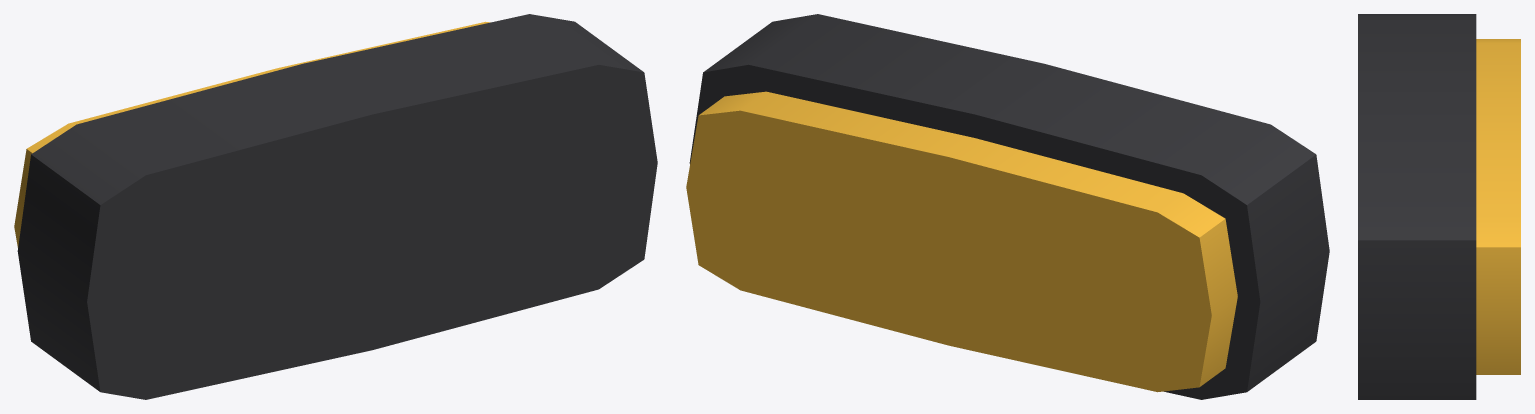
The model's file is flush.glb.
The picture shows the model from 3 angles, left to right: view 1: azimuth 30°, elevation 25°; view 2: azimuth 150°, elevation 25°; view 3: azimuth 270°, elevation 25°; orthographic projection. The views are drawn at different scales.
Visible parts, largest first — view 1: lod0; view 2: lod0; view 3: lod0.
Part boxes in pixels (left/top/right/bottom): lod0: left=14, top=14, right=657, bottom=399; lod0: left=686, top=14, right=1329, bottom=399; lod0: left=1358, top=14, right=1520, bottom=399.
Size of what is drawn, in the model's own units: 0.038 by 0.015 by 0.011.
